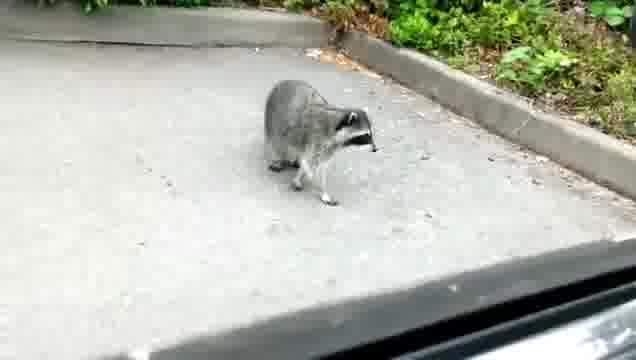raccoon: (264, 76, 381, 207)
